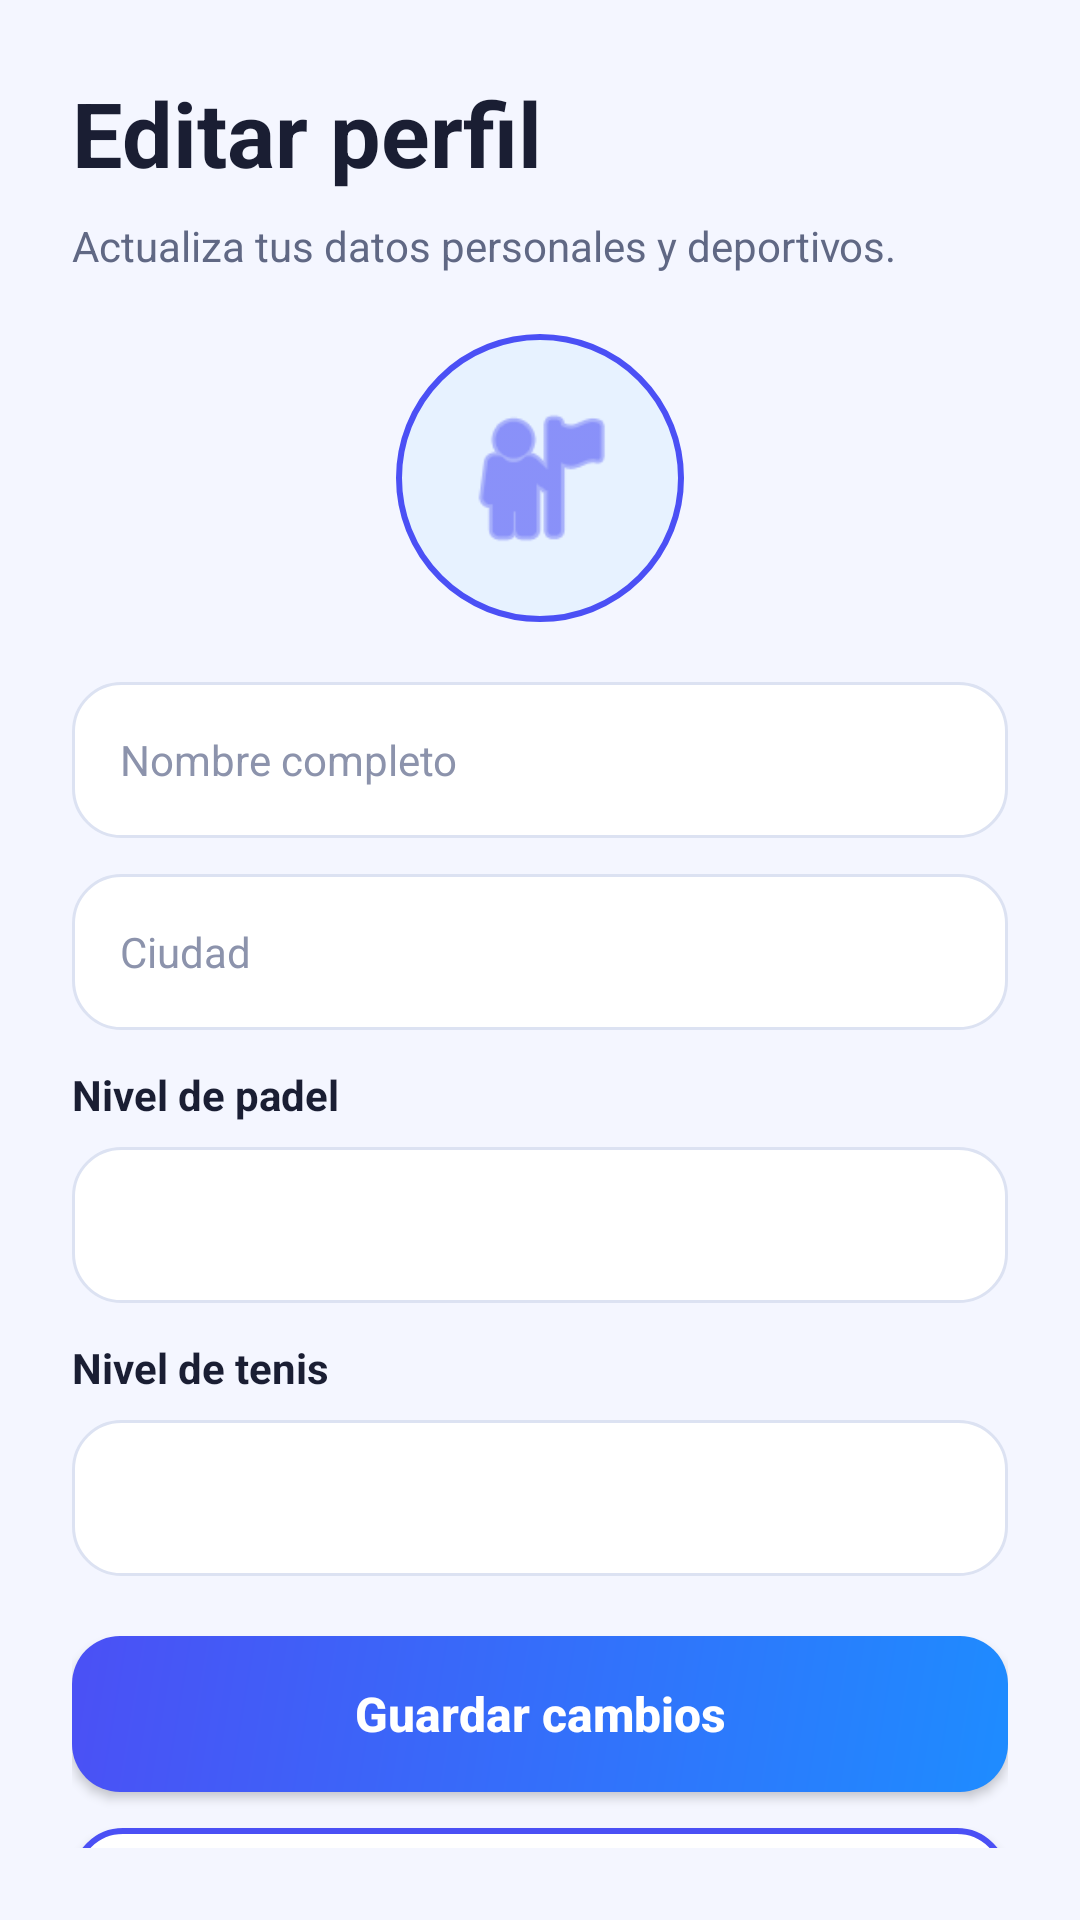

Icons on this 1080 × 1920 Android screen, each with its box as (x1, y1, x2, y2):
Avatar del usuario: (396, 334, 684, 622)
